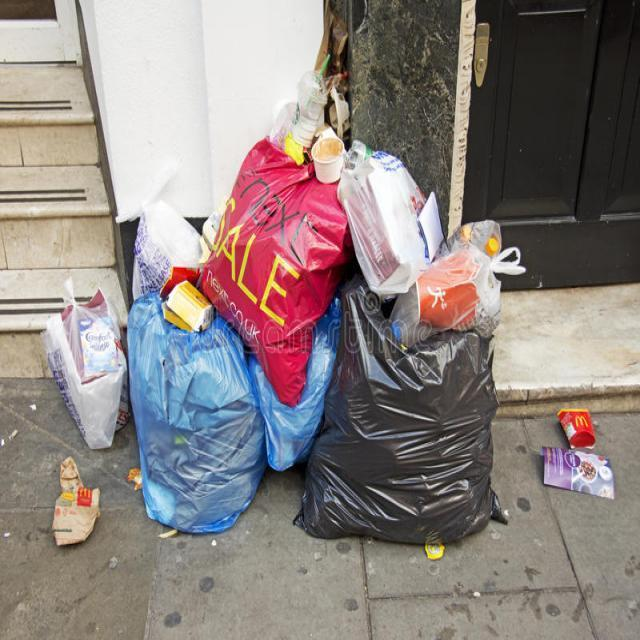Trashbag: (298, 284, 510, 544)
